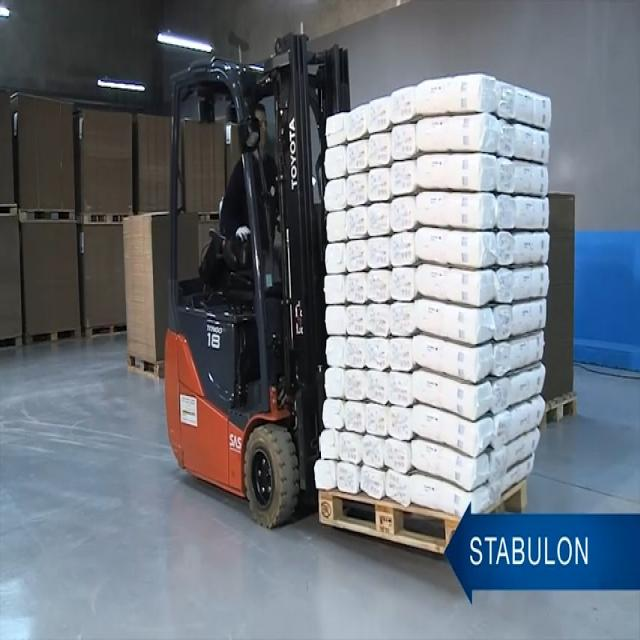Chariot elevateur: (164, 35, 360, 532)
Palette: (309, 480, 457, 559), (491, 466, 535, 518), (540, 388, 584, 436), (17, 196, 79, 228), (22, 324, 84, 356), (125, 354, 163, 389), (79, 204, 131, 228), (84, 319, 132, 344), (0, 333, 25, 351), (0, 202, 19, 221)
